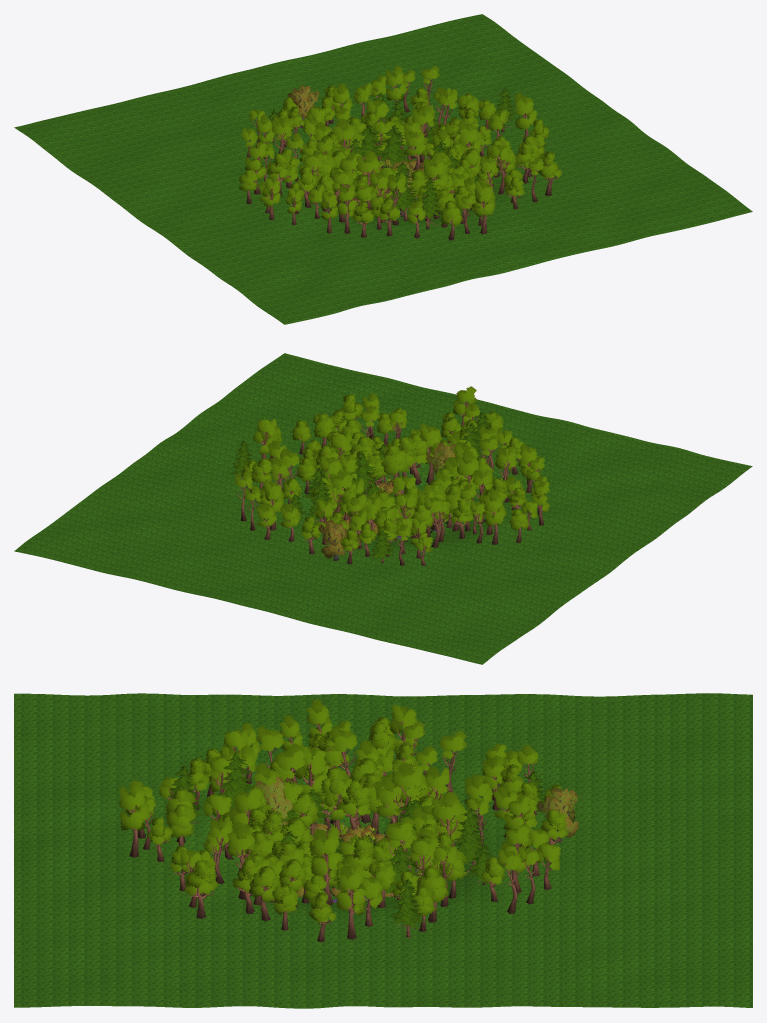
File: battle-forest.glb
3 views of the same model, one above another, from view 1: azimuth 30°, elevation 25°; view 2: azimuth 150°, elevation 25°; view 3: azimuth 270°, elevation 25° (orthographic). The views are drawn at different scales.
Parts seen in each view (by area): view 1: Ground, Tree.142, Tree.023, Tree.107, Tree.128, Tree.087, Tree.112, Tree.081, Tree.124, Tree.056, Tree.066, Tree.057 (+3 smaller); view 2: Ground, Tree.124, Tree.087, Tree.031, Tree.128, Tree.011, Tree.056, Tree.081, Tree.142; view 3: Ground, Tree.020, Tree.128, Tree.142, Tree.143, Tree.011, Tree.124, Tree.120, Tree.097, Tree.001, Tree.078, Tree.006 (+52 smaller).
Boxes of the visible parts, <box> form: Ground: <box>14,14,752,324</box>; Tree.142: <box>473,180,495,234</box>; Tree.023: <box>378,125,414,166</box>; Tree.107: <box>388,162,417,220</box>; Tree.128: <box>514,92,537,142</box>; Tree.087: <box>244,141,267,194</box>; Tree.112: <box>337,183,357,233</box>; Tree.081: <box>385,66,407,109</box>; Tree.124: <box>288,86,319,128</box>; Tree.056: <box>423,153,449,216</box>; Tree.066: <box>418,179,441,229</box>; Tree.057: <box>403,128,427,170</box>; Ground: <box>14,353,752,664</box>; Tree.124: <box>318,520,347,560</box>; Tree.087: <box>483,489,506,544</box>; Tree.031: <box>381,444,409,493</box>; Tree.128: <box>253,419,276,458</box>; Tree.011: <box>456,450,483,500</box>; Tree.056: <box>420,423,442,484</box>; Tree.081: <box>263,479,284,530</box>; Tree.142: <box>452,386,476,427</box>; Ground: <box>14,693,752,1008</box>; Tree.020: <box>310,826,343,905</box>; Tree.128: <box>336,863,366,939</box>; Tree.142: <box>119,780,150,857</box>; Tree.143: <box>184,860,218,918</box>; Tree.011: <box>293,744,327,826</box>; Tree.124: <box>537,788,578,842</box>; Tree.120: <box>454,808,492,873</box>; Tree.097: <box>390,879,426,939</box>; Tree.001: <box>336,780,370,829</box>; Tree.078: <box>249,865,281,921</box>; Tree.006: <box>373,776,405,823</box>.
Size of the model in its own units: 140 by 19.98 by 140.
Materials: 12 (12 with a texture image).
